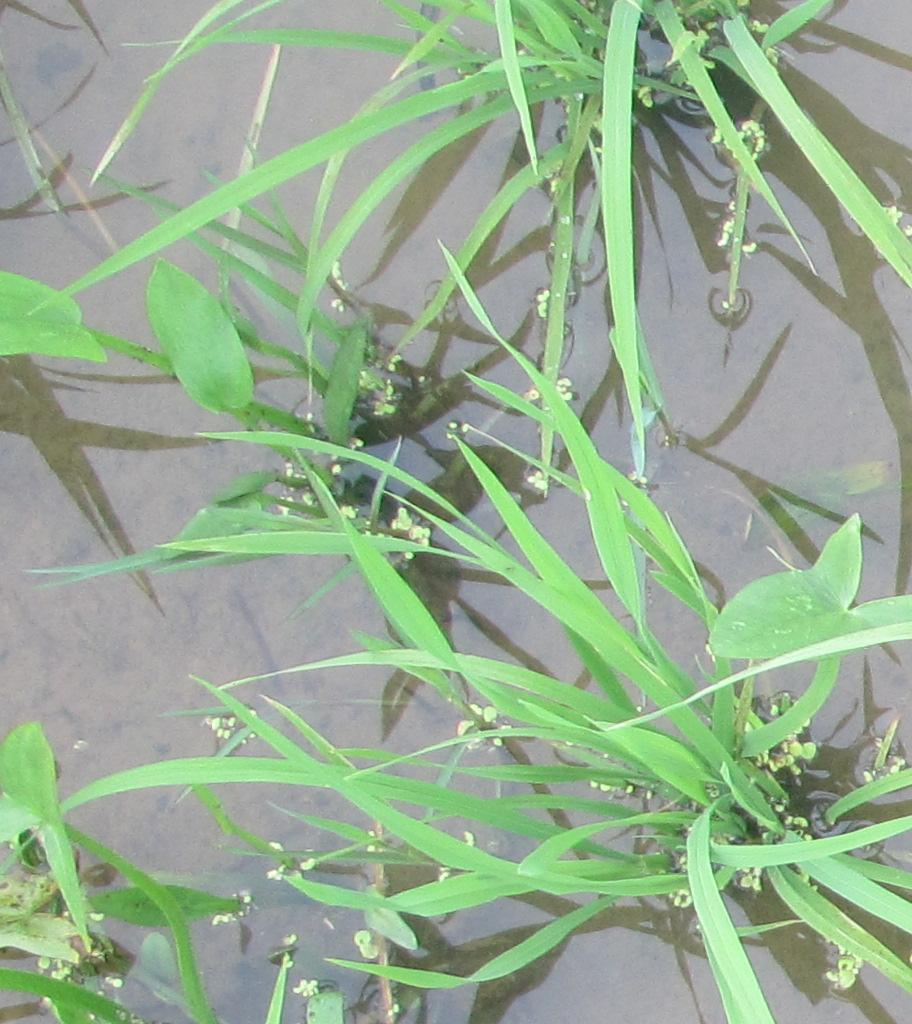Weed: (704, 519, 901, 663), (137, 257, 265, 411), (7, 716, 82, 891), (1, 266, 107, 371)
